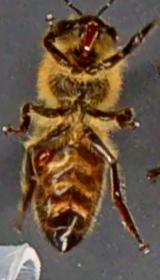varroa_mite: (32, 141, 61, 175)
